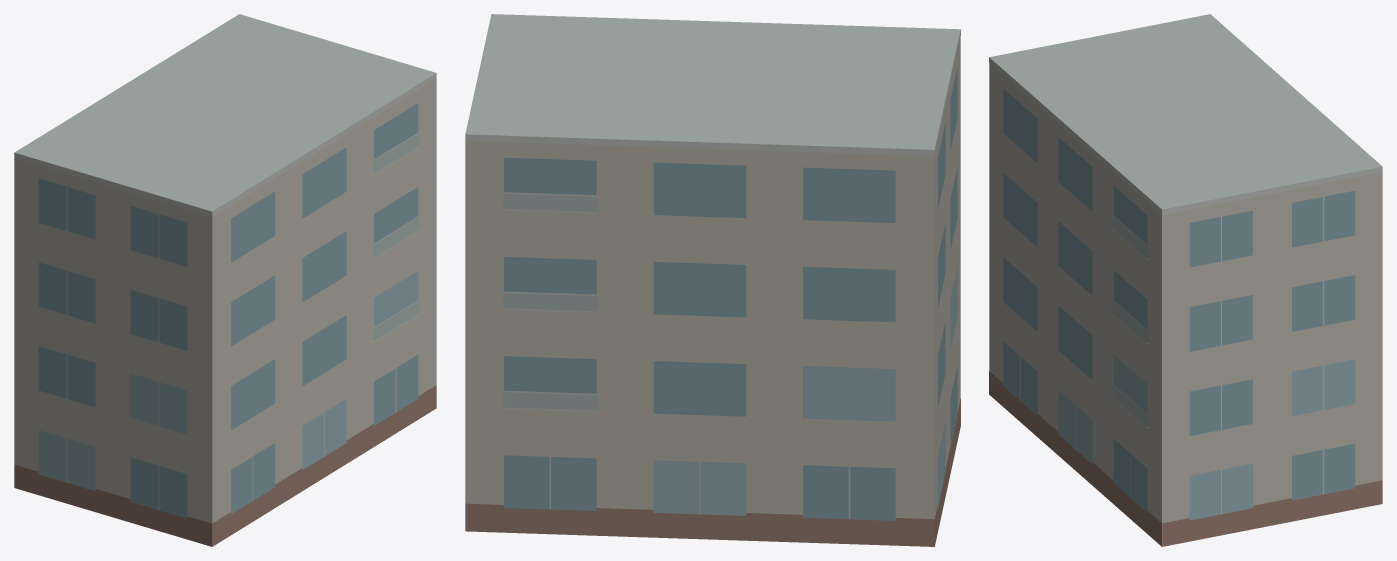
The model's file is survey-upis-32459063.glb.
3 views of the same model, side by side, from view 1: azimuth 30°, elevation 25°; view 2: azimuth 150°, elevation 25°; view 3: azimuth 270°, elevation 25° (orthographic). The views are drawn at different scales.
Visible parts, largest first — view 1: survey-upis-32459063.tmp; view 2: survey-upis-32459063.tmp; view 3: survey-upis-32459063.tmp.
Boxes of the visible parts, x1,y1,x2,y2 form: survey-upis-32459063.tmp: [14, 14, 436, 546]; survey-upis-32459063.tmp: [465, 14, 960, 546]; survey-upis-32459063.tmp: [989, 14, 1382, 546].
Bounding box in the file's own units: 18.34 × 14.74 × 15.6.
